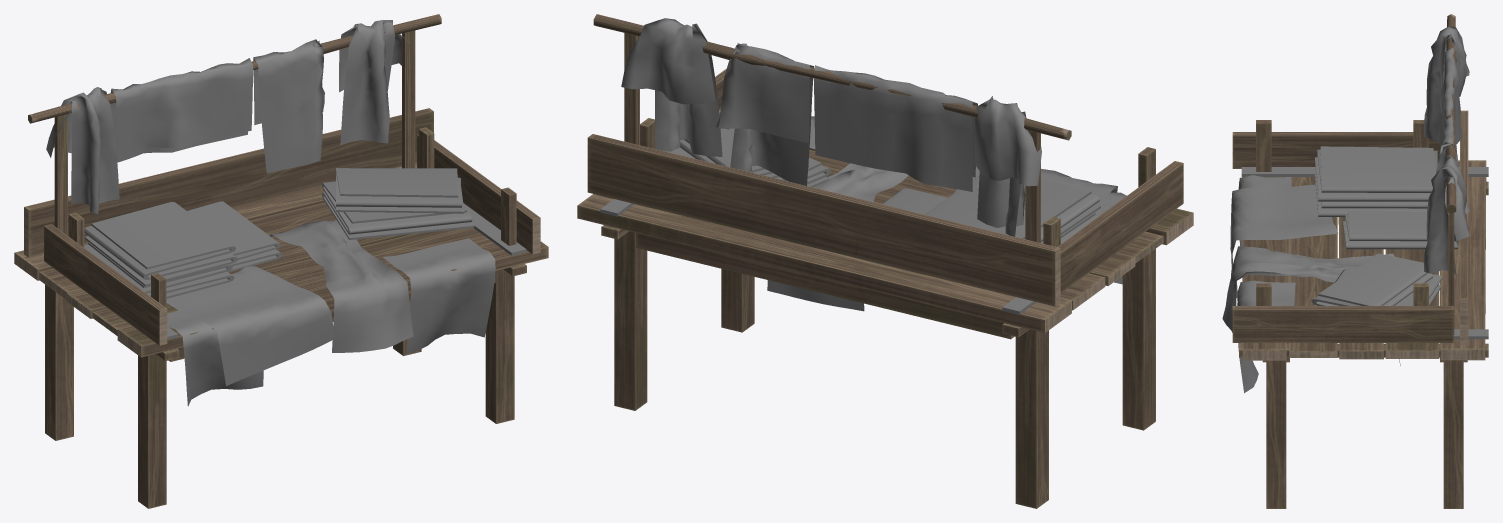
The model's file is SM_table_cloth.fbx.
The picture shows the model from 3 angles, left to right: view 1: azimuth 30°, elevation 25°; view 2: azimuth 150°, elevation 25°; view 3: azimuth 270°, elevation 25°; orthographic projection. The views are drawn at different scales.
Parts seen in each view (by area): view 1: Object32563; view 2: Object32563; view 3: Object32563.
Boxes of the visible parts, x1,y1,x2,y2 form: Object32563: (14, 14, 548, 508); Object32563: (577, 14, 1193, 508); Object32563: (1222, 14, 1488, 508).
Size of the model in its own units: 77.85 by 61.81 by 45.87.
